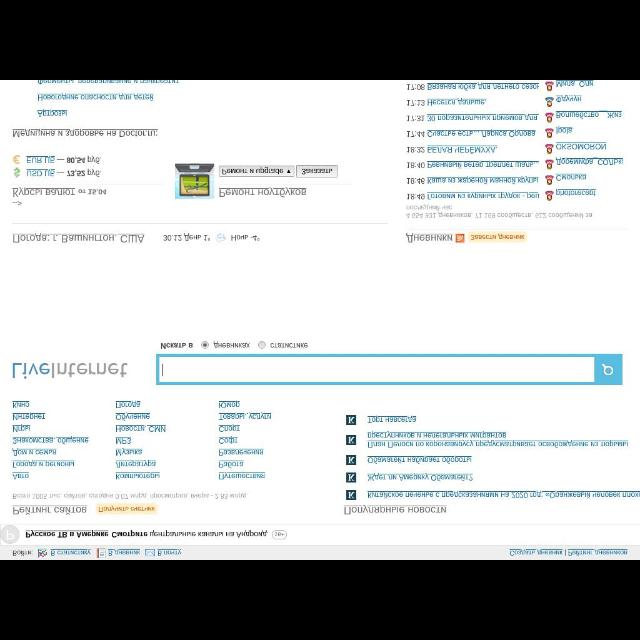button: (596, 354, 622, 384)
checkbox: (258, 340, 266, 350), (200, 342, 210, 348)
icon: (600, 362, 614, 374), (272, 529, 288, 539), (216, 232, 227, 242), (96, 549, 106, 559), (145, 550, 155, 556), (286, 170, 292, 174)
image: (176, 164, 214, 200), (2, 526, 18, 542), (456, 232, 464, 244), (13, 155, 21, 165), (14, 168, 20, 178), (38, 550, 46, 556)
input: (158, 354, 596, 386)
link: (366, 430, 630, 448), (367, 490, 639, 500), (427, 191, 539, 201), (366, 472, 474, 482), (37, 92, 155, 101), (427, 175, 541, 183), (426, 160, 540, 168), (426, 83, 540, 91), (428, 114, 540, 122), (428, 130, 536, 138), (367, 456, 473, 464), (427, 144, 498, 154), (12, 436, 90, 444), (12, 459, 74, 469), (38, 81, 182, 85), (556, 110, 622, 118), (368, 414, 418, 424), (568, 548, 628, 556), (556, 158, 624, 165), (427, 98, 485, 106), (12, 447, 58, 457), (218, 413, 272, 421), (556, 141, 608, 149), (116, 424, 166, 432), (116, 472, 160, 480), (49, 548, 91, 556), (218, 474, 266, 481), (508, 548, 564, 554), (218, 449, 264, 456), (555, 188, 595, 196), (108, 548, 142, 556), (116, 448, 142, 458), (115, 400, 141, 410), (216, 400, 242, 410), (38, 109, 66, 118), (116, 462, 156, 468), (12, 414, 46, 421), (116, 414, 150, 421), (556, 95, 582, 104), (557, 81, 595, 87), (26, 155, 54, 163), (557, 173, 587, 180), (218, 460, 244, 468), (26, 170, 54, 177), (158, 548, 182, 556), (116, 436, 132, 446), (556, 125, 572, 135), (217, 437, 240, 443), (13, 472, 29, 480), (220, 426, 240, 432), (12, 426, 30, 432), (14, 402, 31, 408)
spinner: (220, 164, 294, 176)
text: (404, 204, 592, 218), (12, 361, 128, 379), (112, 529, 268, 539), (12, 493, 248, 499), (12, 233, 146, 243), (344, 503, 448, 515), (12, 128, 158, 136), (218, 188, 306, 198), (25, 529, 109, 539), (13, 505, 87, 515), (15, 187, 75, 197), (406, 232, 454, 242), (163, 232, 210, 242), (472, 232, 524, 240), (214, 339, 250, 349), (222, 169, 282, 175), (98, 506, 156, 512), (68, 168, 102, 178), (68, 156, 102, 164), (302, 168, 334, 176), (230, 234, 260, 242), (270, 342, 308, 348), (79, 188, 107, 196), (10, 548, 36, 556), (406, 190, 426, 200), (162, 342, 192, 348), (407, 114, 425, 124), (406, 161, 424, 169), (407, 146, 425, 154), (406, 130, 424, 138), (407, 98, 425, 106), (406, 82, 424, 90), (408, 176, 424, 184)
textbutton: (297, 166, 337, 178)
